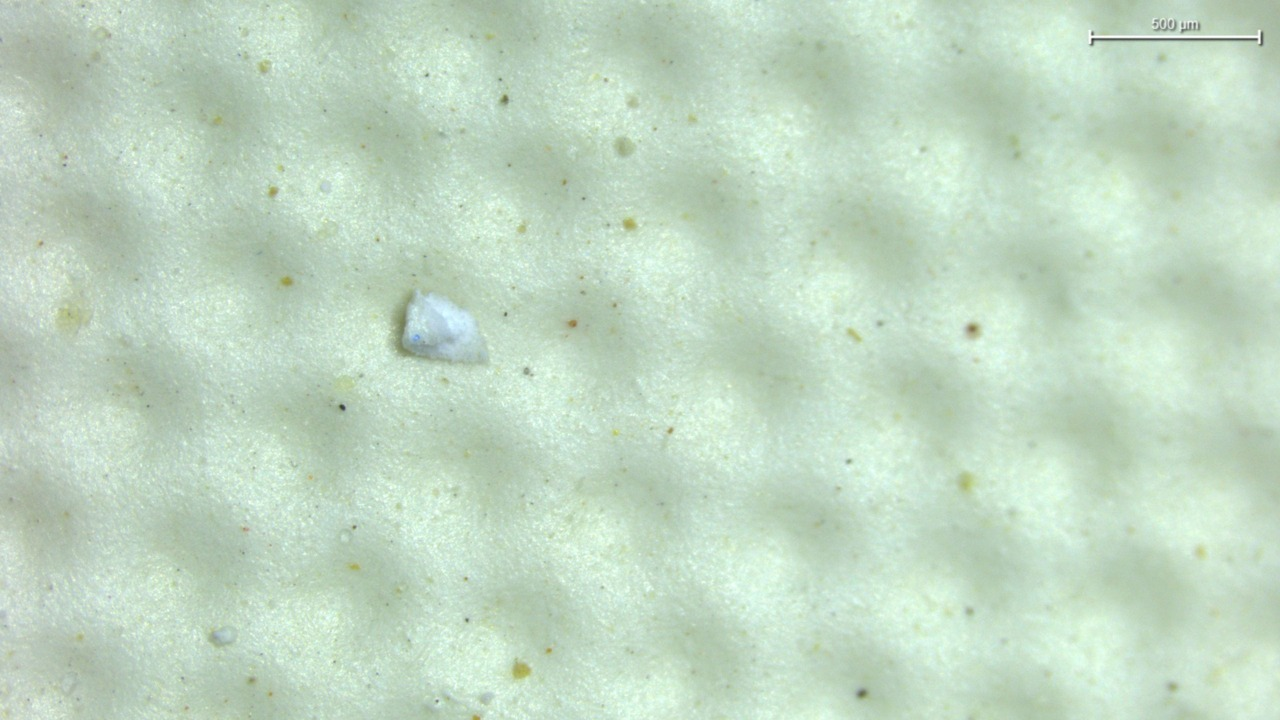microplastic_fragment: (402, 289, 487, 361)
